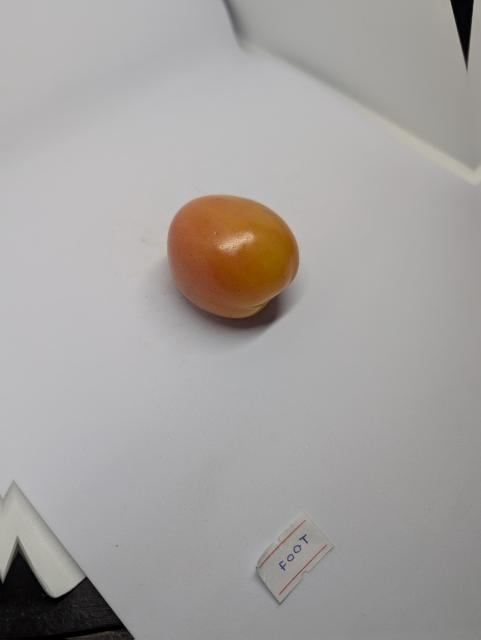turning: (161, 192, 310, 321)
